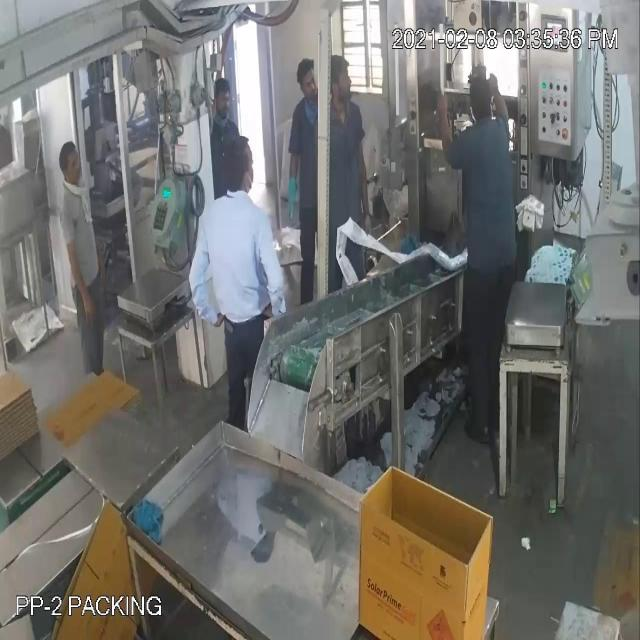No_Gloves: (17, 65, 499, 281)
